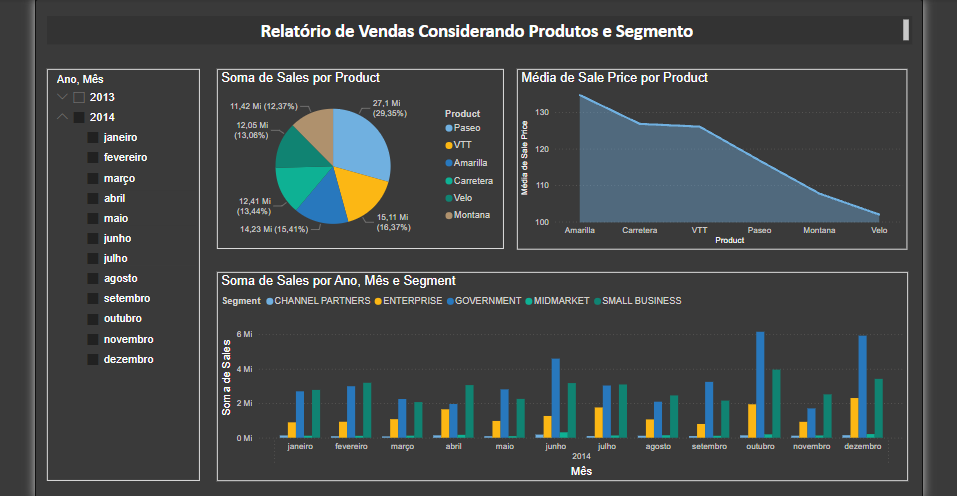

The page's visual inventory and layout, read from the dashboard file:
{"tool":"powerbi","page":{"name":"Página 1","canvas":[1280,720],"ordinal":0},"visuals":[{"type":"pieChart","fields":{"Category":["financials.Product"],"Y":["Sum(financials. Sales)"]},"box":[262.1,100.8,413.3,259.2],"z":0},{"type":"areaChart","fields":{"Category":["financials.Product"],"Y":["Avg(financials.Sale Price)"]},"box":[694.3,100.4,562.3,259.8],"z":1000},{"type":"clusteredColumnChart","fields":{"Y":["Sum(financials. Sales)"],"Category":["financials.Date.Variation.Hierarquia de datas.Ano","financials.Date.Variation.Hierarquia de datas.Mês"],"Series":["financials.Segment"]},"box":[262.1,393.1,995,301],"z":2000},{"type":"slicer","fields":{"Values":["financials.Date.Variation.Hierarquia de datas.Ano","financials.Date.Variation.Hierarquia de datas.Mês"]},"box":[17.3,100.8,220.3,593.3],"z":3000},{"type":"textbox","box":[17.9,24.7,1245.6,41.2],"z":4000}]}

Visuals, with their boxes on the page's 1280x720 design canvas (x1, y1, x2, y2). These are canvas units, not pixel positions in the 957x496 screenshot, which may show the page scaled, cropped or inside an application window:
pieChart - financials.Product x Sum(financials. Sales): bbox=[262, 101, 675, 360]
areaChart - financials.Product x Avg(financials.Sale Price): bbox=[694, 100, 1257, 360]
clusteredColumnChart - Sum(financials. Sales) x financials.Date.Variation.Hierarquia de datas.Ano: bbox=[262, 393, 1257, 694]
slicer - financials.Date.Variation.Hierarquia de datas.Ano x financials.Date.Variation.Hierarquia de datas.Mês: bbox=[17, 101, 238, 694]
textbox: bbox=[18, 25, 1264, 66]
